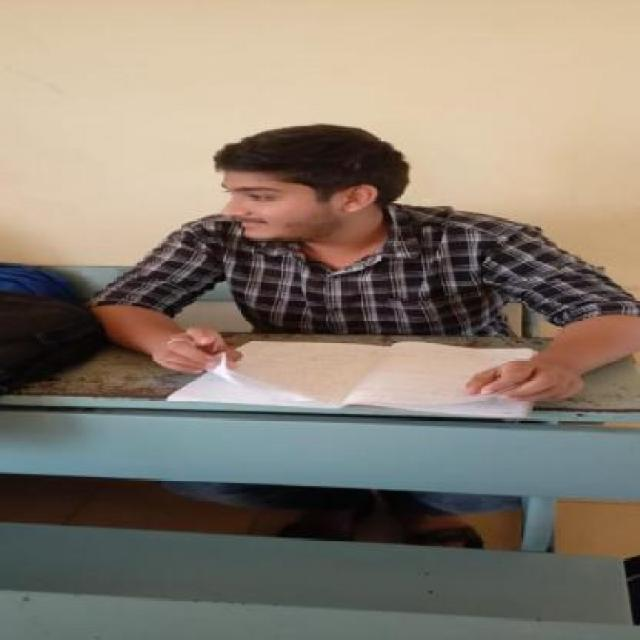cheating: (85, 125, 640, 440)
